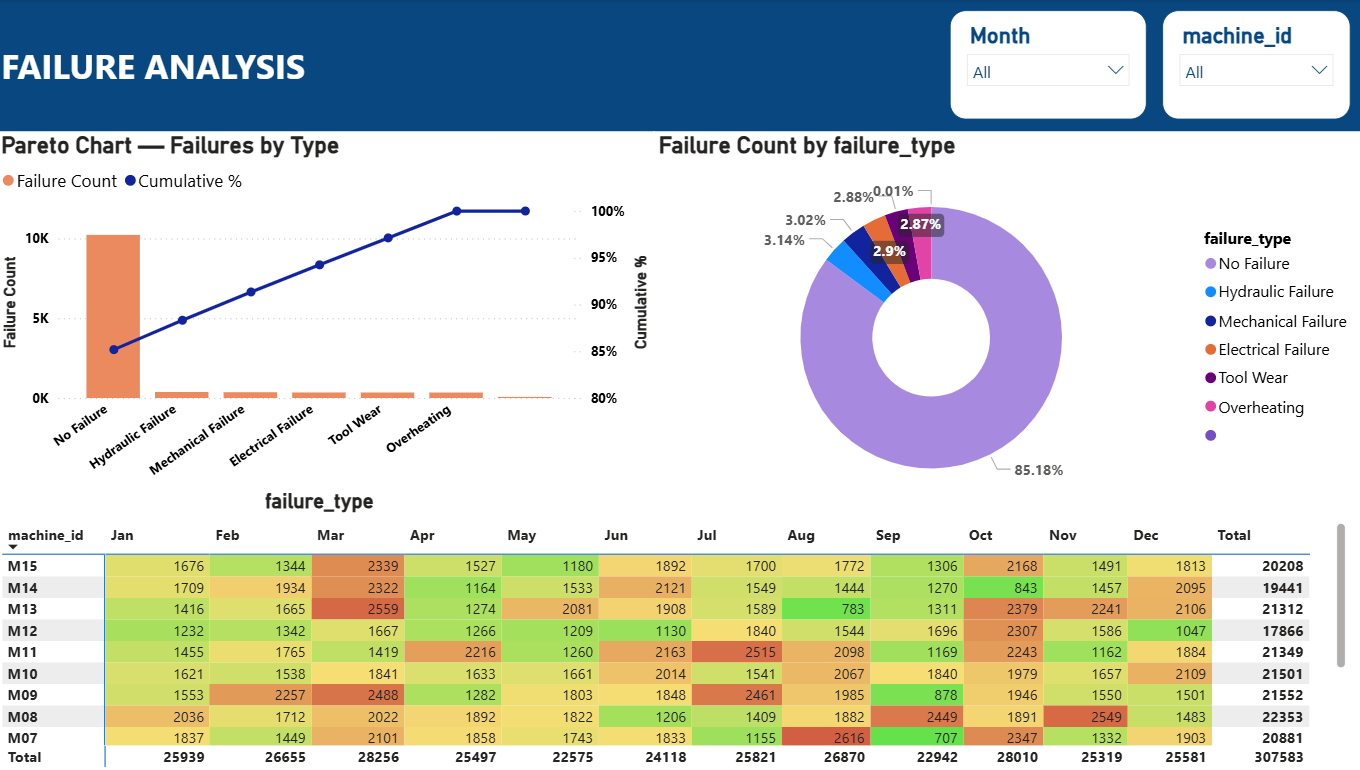

What the dashboard file says about the page in this screenshot:
{"tool":"powerbi","page":{"name":"Failure Analysis","canvas":[1280,720],"ordinal":2},"visuals":[{"type":"textbox","box":[9.4,0,1271,123],"z":0},{"type":"slicer","fields":{"Values":["manufacturing_downtime_dataset.Month"]},"box":[896,10.7,183.2,101.6],"z":1},{"type":"slicer","fields":{"Values":["manufacturing_downtime_dataset.machine_id"]},"box":[1093.9,10.7,175.2,101.6],"z":2},{"type":"pivotTable","fields":{"Rows":["manufacturing_downtime_dataset.machine_id"],"Columns":["manufacturing_downtime_dataset.Month"],"Values":["Sum(manufacturing_downtime_dataset.downtime_minutes)"]},"box":[10.7,482.7,1259.7,236.7],"z":5},{"type":"lineClusteredColumnComboChart","title":"Pareto Chart — Failures by Type","fields":{"Category":["manufacturing_downtime_dataset.failure_type"],"Y":["manufacturing_downtime_dataset.Failure Count"],"Y2":["manufacturing_downtime_dataset.Cumulative %"]},"box":[9.4,123,612.5,359.7],"z":6},{"type":"donutChart","fields":{"Category":["manufacturing_downtime_dataset.failure_type"],"Y":["manufacturing_downtime_dataset.Failure Count"]},"box":[621,123,659,360],"z":7}]}

Visuals, with their boxes in screenshot pixels (x1, y1, x2, y2), scaled from the page's 1280x720 canvas onto the 1360x770 screenshot:
textbox: detection(10, 0, 1359, 132)
slicer - manufacturing_downtime_dataset.Month: detection(952, 11, 1147, 120)
slicer - manufacturing_downtime_dataset.machine_id: detection(1162, 11, 1348, 120)
pivotTable - manufacturing_downtime_dataset.machine_id x manufacturing_downtime_dataset.Month: detection(11, 516, 1350, 769)
"Pareto Chart — Failures by Type" lineClusteredColumnComboChart: detection(10, 132, 661, 516)
donutChart - manufacturing_downtime_dataset.failure_type x manufacturing_downtime_dataset.Failure Count: detection(660, 132, 1359, 517)
